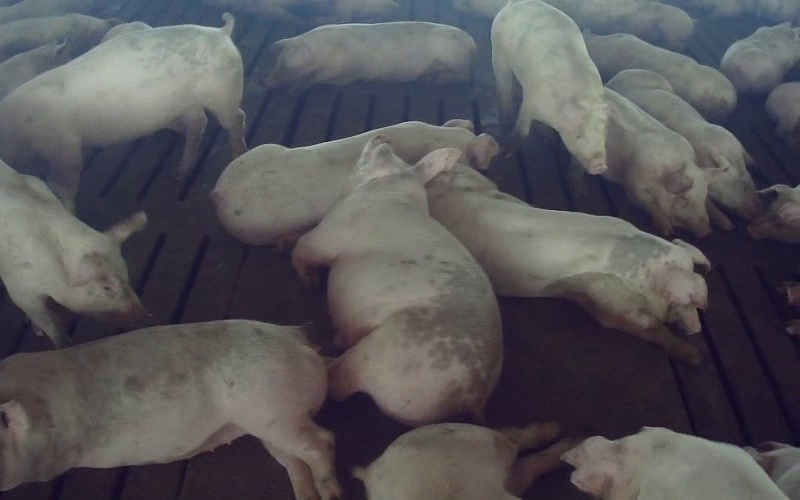pig: (0, 320, 339, 499), (292, 138, 501, 424), (428, 164, 708, 362), (0, 14, 245, 211), (212, 119, 498, 244), (607, 69, 760, 219), (491, 0, 607, 173), (604, 88, 730, 236), (266, 21, 475, 88), (584, 33, 736, 122), (719, 22, 799, 94)
